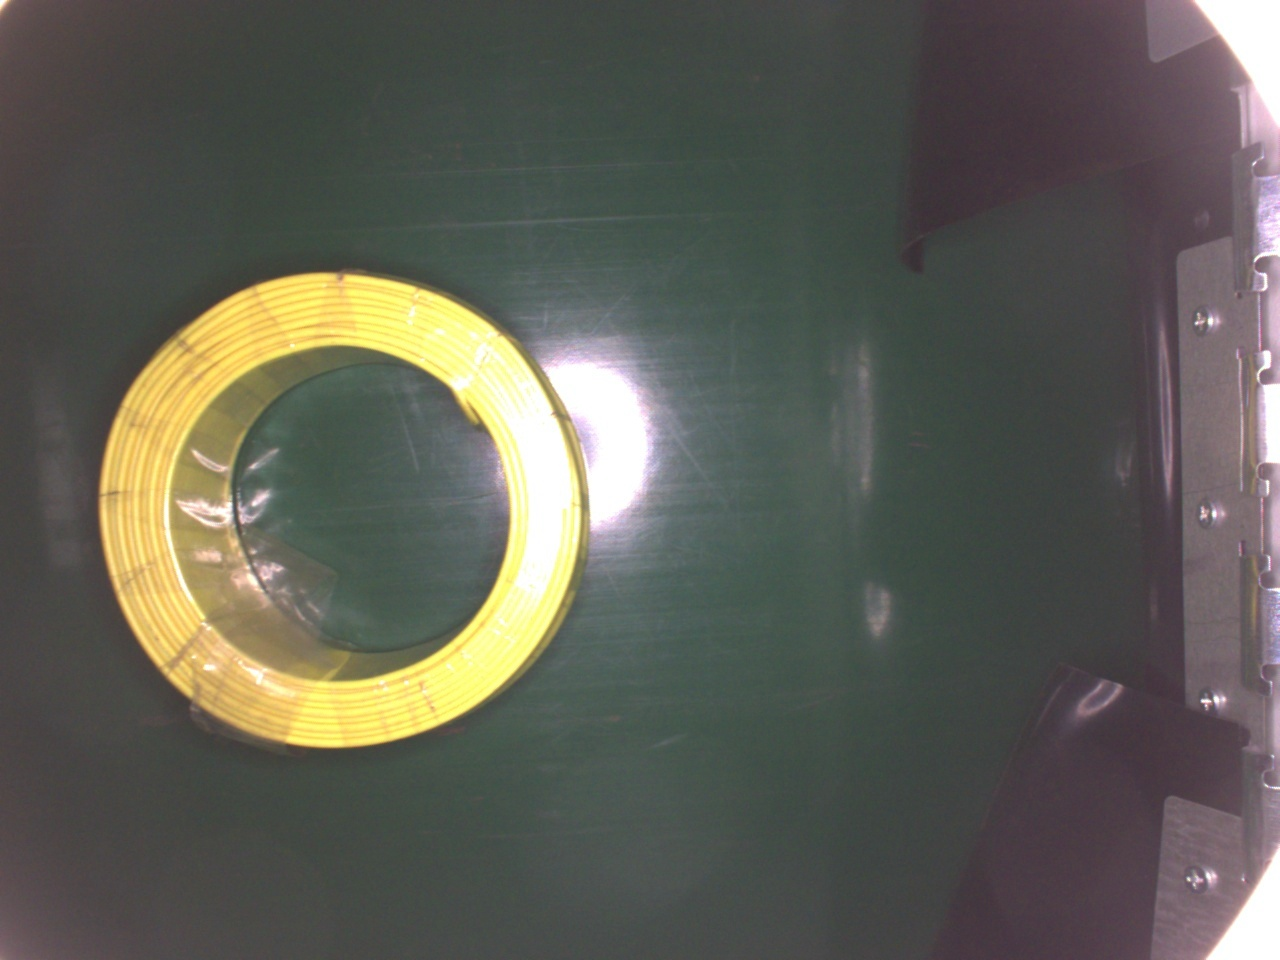yellow: (94, 262, 588, 755)
